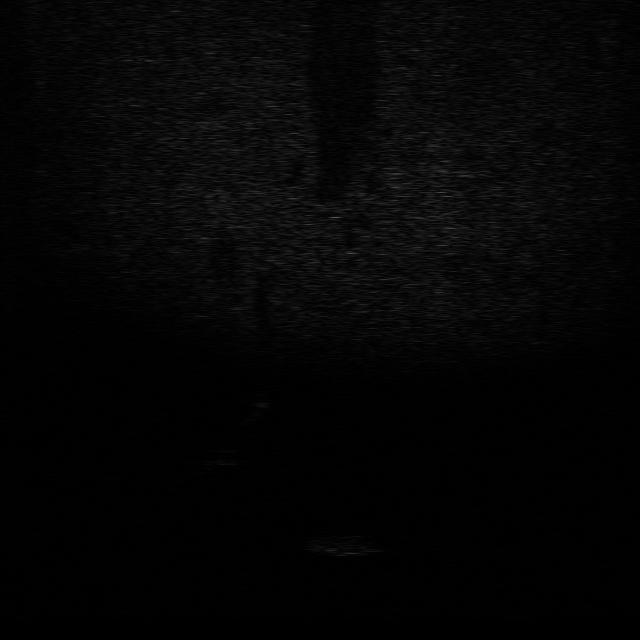ball: (202, 443, 248, 468)
circle cage: (306, 529, 378, 560)
human body: (239, 377, 279, 428)
